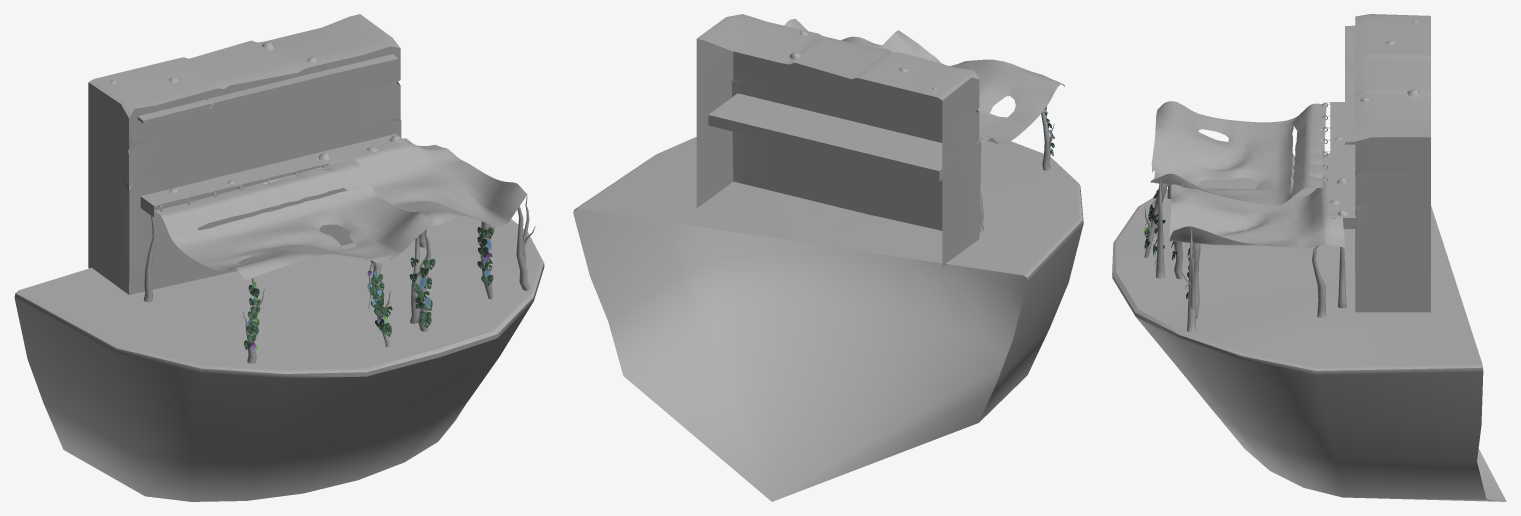
Rendered from Trogo_5.fbx.
3 renders of one model, left to right at view 1: azimuth 30°, elevation 25°; view 2: azimuth 150°, elevation 25°; view 3: azimuth 270°, elevation 25°, orthographic. The views are drawn at different scales.
Visible parts, largest first — view 1: trogo_5; view 2: trogo_5; view 3: trogo_5.
Part boxes in pixels (left/top/right/bottom): trogo_5: left=14, top=14, right=544, bottom=501; trogo_5: left=573, top=14, right=1083, bottom=501; trogo_5: left=1112, top=14, right=1506, bottom=501.
Size of the model in its own units: 1270 by 1189 by 1005.
